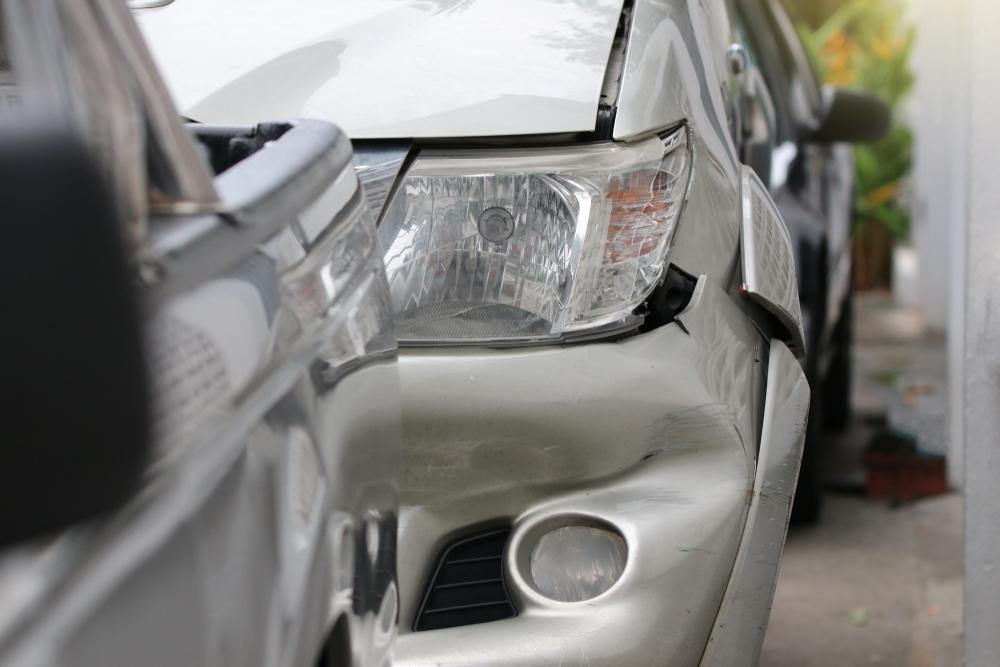crack: (673, 318, 691, 336)
dent: (531, 399, 754, 573)
lamp broken: (376, 121, 694, 346)
